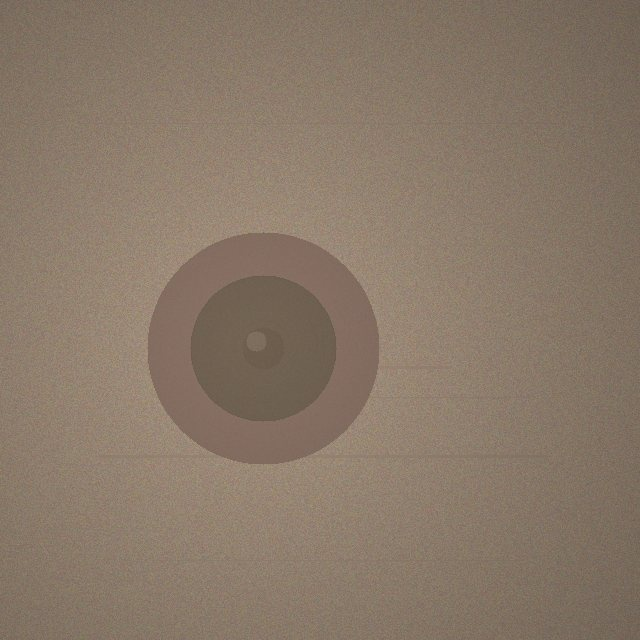good: (147, 232, 379, 464)
